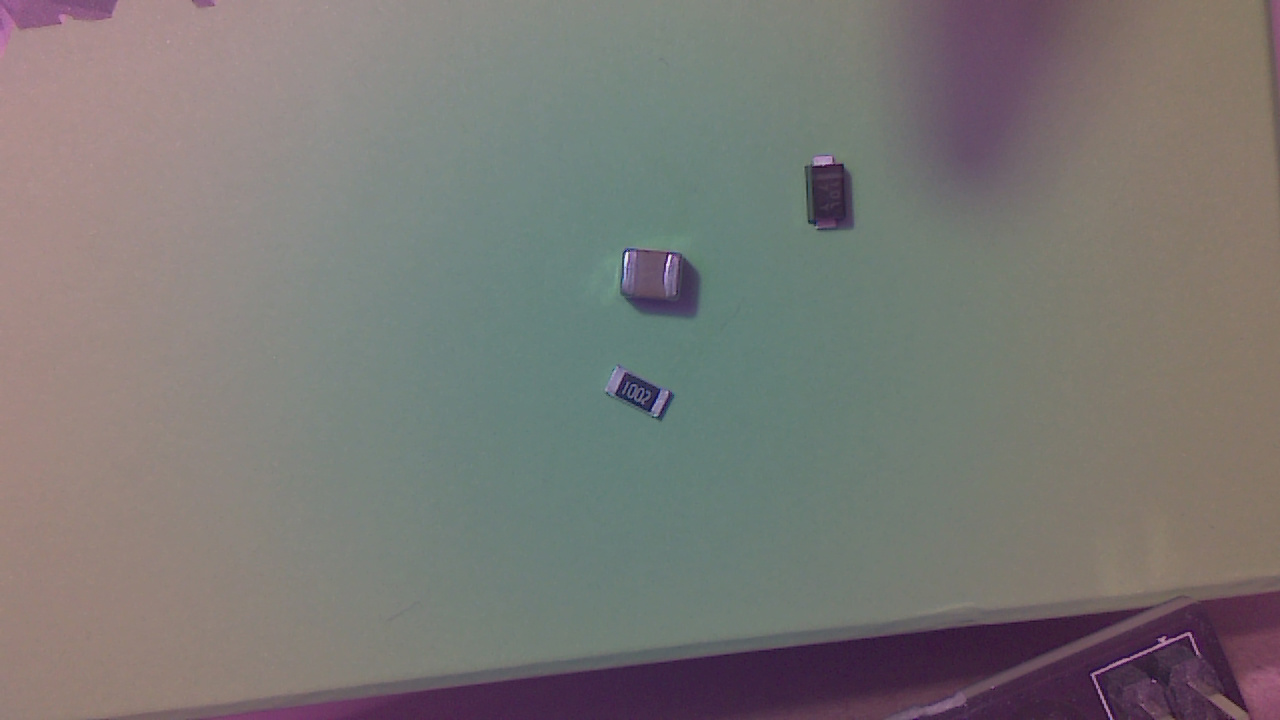Condensator: (625, 250, 691, 311)
Diode: (809, 156, 855, 237)
Resistor: (610, 372, 678, 422)
